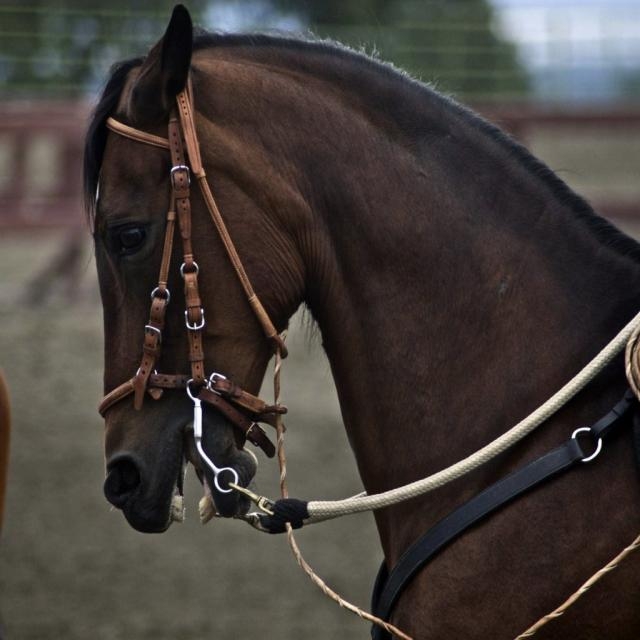Horse: (84, 4, 638, 638)
